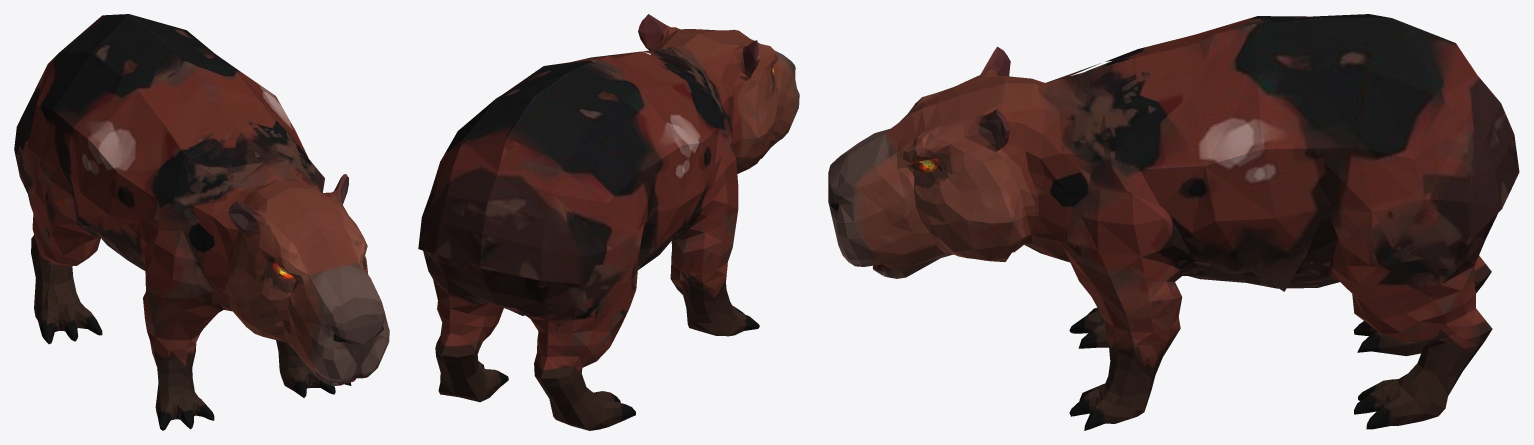
File: modelo.glb
The picture shows the model from 3 angles, left to right: view 1: azimuth 30°, elevation 25°; view 2: azimuth 150°, elevation 25°; view 3: azimuth 270°, elevation 25°; orthographic projection. The views are drawn at different scales.
Visible parts, largest first — view 1: yacare; view 2: yacare; view 3: yacare.
Part boxes in pixels (<box>): yacare: <box>14,14,389,430</box>; yacare: <box>418,14,799,430</box>; yacare: <box>828,14,1519,430</box>.
Size of the model in its own units: 0.4593 by 0.6935 by 1.2.
1 material, 1 textured.
